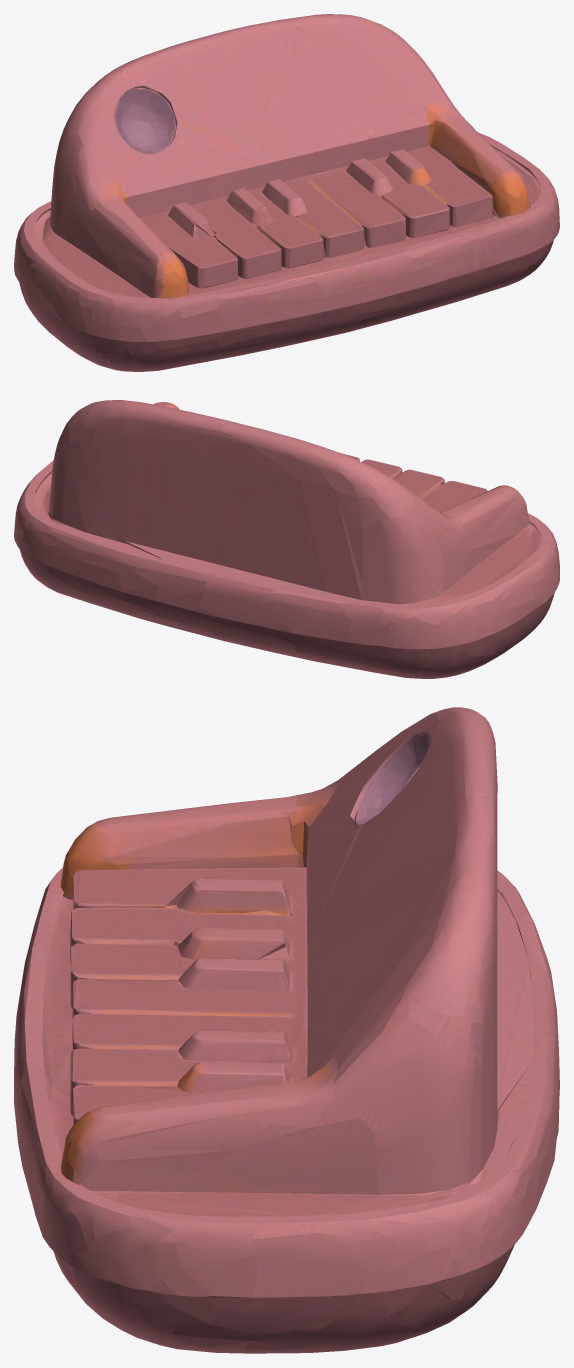
Rendered from toyPiano.b4ca10f8.glb.
The picture shows the model from 3 angles, top to bottom: view 1: azimuth 30°, elevation 25°; view 2: azimuth 150°, elevation 25°; view 3: azimuth 270°, elevation 25°; orthographic projection. The views are drawn at different scales.
Parts seen in each view (by area): view 1: output_unwrapped; view 2: output_unwrapped; view 3: output_unwrapped.
Part boxes in pixels (x1=…): output_unwrapped: x1=14, y1=14, x2=559, y2=371; output_unwrapped: x1=14, y1=400, x2=559, y2=678; output_unwrapped: x1=14, y1=707, x2=559, y2=1353.
Bounding box in the file's own units: 1.9 × 0.867 × 1.07.
Materials: 1 (1 with a texture image).
